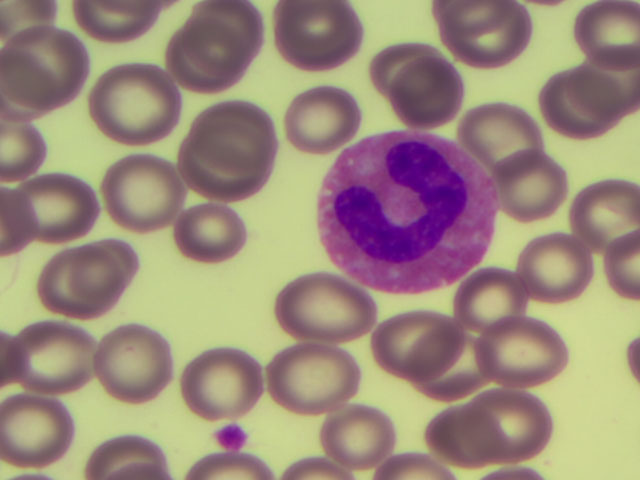Platelets: (213, 417, 251, 452)
RBC: (480, 309, 564, 386), (6, 27, 84, 103), (380, 304, 460, 374), (566, 45, 640, 113), (566, 1, 640, 69), (566, 178, 640, 246), (517, 227, 590, 295), (96, 66, 169, 134), (105, 155, 178, 223), (41, 250, 114, 318), (180, 202, 253, 270), (191, 139, 264, 207), (207, 87, 280, 155), (177, 29, 250, 97), (197, 1, 270, 69), (285, 2, 358, 70), (287, 87, 360, 155), (362, 33, 435, 101), (417, 69, 490, 137), (469, 98, 542, 166), (506, 149, 579, 217), (540, 84, 613, 152), (471, 2, 544, 70), (473, 396, 546, 464), (428, 402, 501, 470), (428, 336, 501, 404), (261, 345, 334, 413), (285, 269, 358, 337), (191, 343, 264, 411), (100, 330, 173, 398), (16, 321, 89, 389), (324, 396, 397, 464), (29, 174, 102, 242), (1, 392, 73, 460), (452, 257, 517, 321)
WBC: (323, 129, 489, 280)
